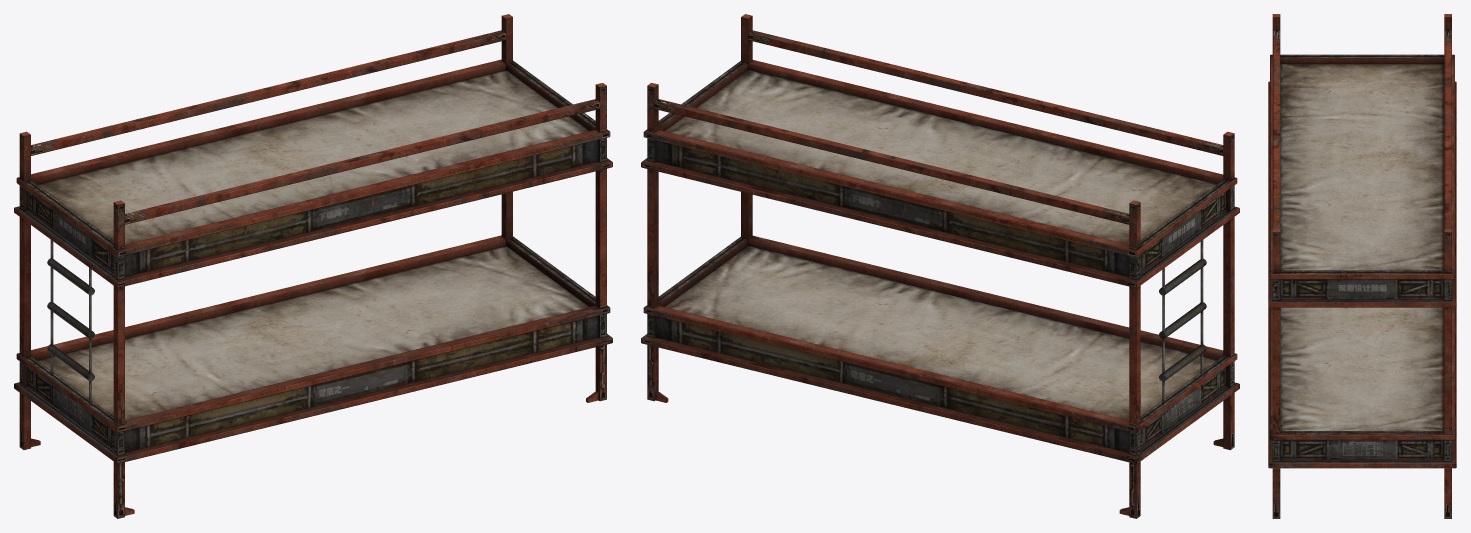
Rendered from bed_double_bunk_cabin.dae.
The picture shows the model from 3 angles, left to right: view 1: azimuth 30°, elevation 25°; view 2: azimuth 150°, elevation 25°; view 3: azimuth 270°, elevation 25°; orthographic projection. The views are drawn at different scales.
Visible parts, largest first — view 1: Mesh; view 2: Mesh; view 3: Mesh.
Boxes of the visible parts, bbox=[...] form: Mesh: bbox=[14, 14, 612, 518]; Mesh: bbox=[641, 14, 1239, 518]; Mesh: bbox=[1268, 14, 1456, 518].
Bounding box in the file's own units: 3.93 × 2.38 × 1.41.
